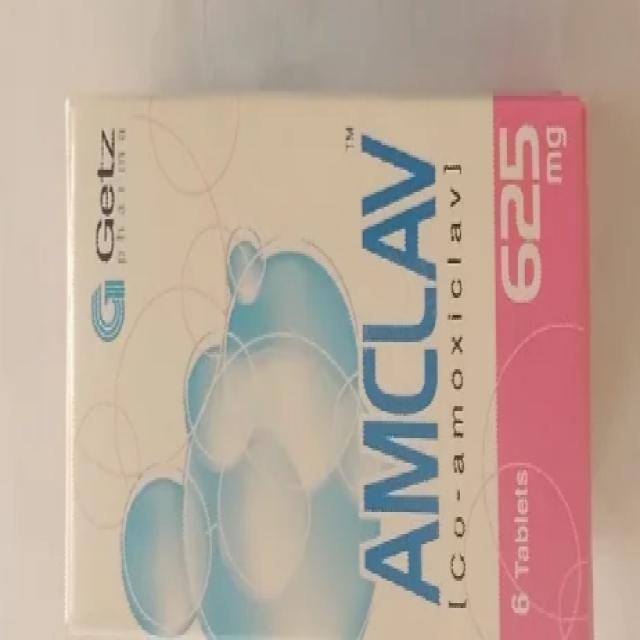drug-name: (358, 130, 442, 606)
